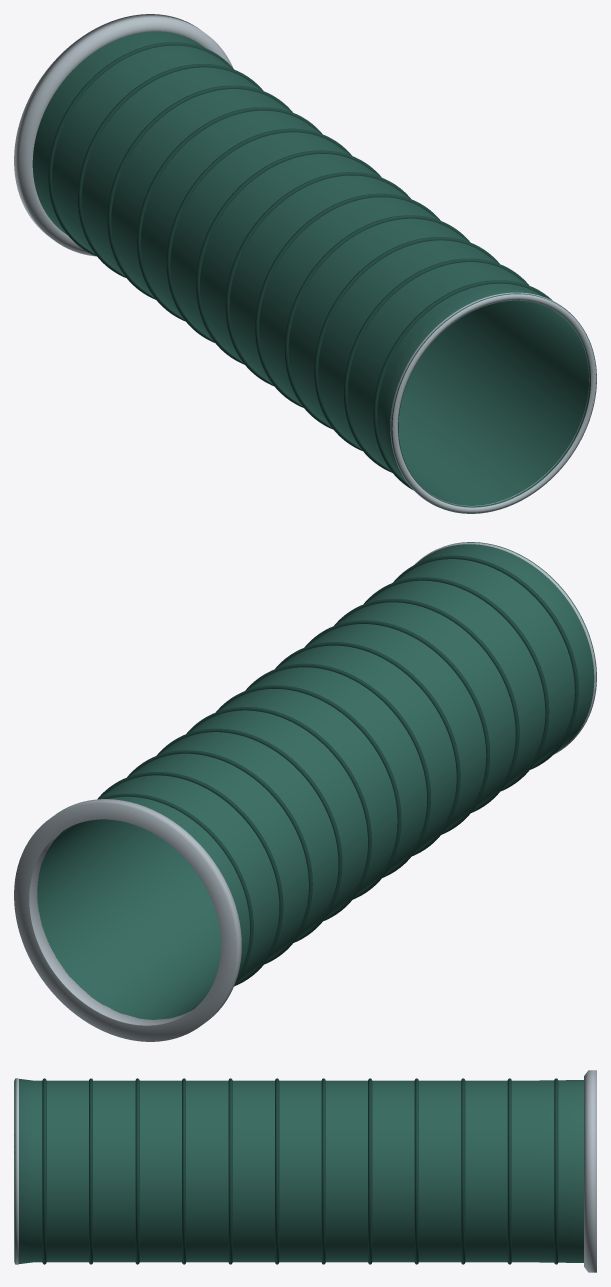
Rendered from axial-fan-duct.glb.
3 renders of one model, top to bottom at view 1: azimuth 30°, elevation 25°; view 2: azimuth 150°, elevation 25°; view 3: azimuth 270°, elevation 25°, orthographic. The views are drawn at different scales.
Parts seen in each view (by area): view 1: Flexible duct body, Fabric reinforcement band (×12), Connection flange, Open discharge rim; view 2: Flexible duct body, Fabric reinforcement band (×12), Connection flange, Open discharge rim; view 3: Flexible duct body, Fabric reinforcement band (×12), Connection flange, Open discharge rim.
Part boxes in pixels (<box>): Flexible duct body: <box>32,31,596,513</box>; Fabric reinforcement band (×12): <box>48,42,552,490</box>; Connection flange: <box>14,14,233,256</box>; Open discharge rim: <box>390,292,596,513</box>; Flexible duct body: <box>37,542,596,1019</box>; Fabric reinforcement band (×12): <box>97,555,578,986</box>; Connection flange: <box>14,799,241,1041</box>; Open discharge rim: <box>414,542,596,754</box>; Flexible duct body: <box>15,1078,583,1264</box>; Fabric reinforcement band (×12): <box>42,1078,558,1264</box>; Connection flange: <box>584,1070,596,1272</box>; Open discharge rim: <box>14,1078,18,1264</box>.
Size of the model in its own units: 1.39 by 1.39 by 4.01.
